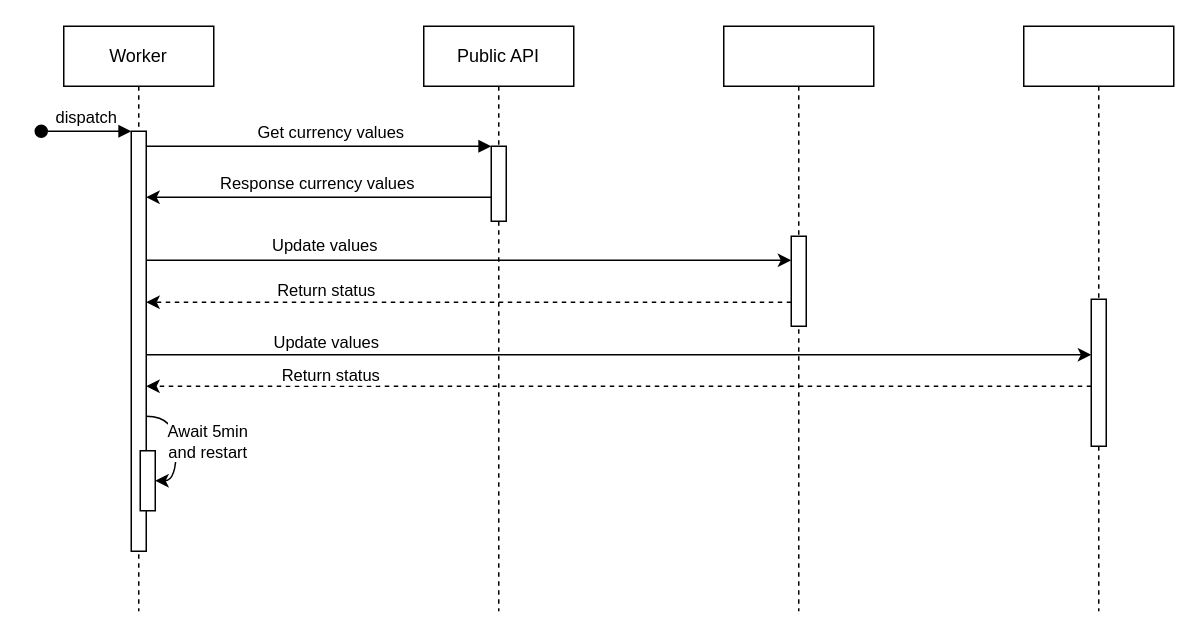
This 1200x638 diagram has some shape labels left out. The centre of each missing label's shape, as x and y in pixels:
"Mysql" goes at (798,318).
"Redis" goes at (1098,318).
